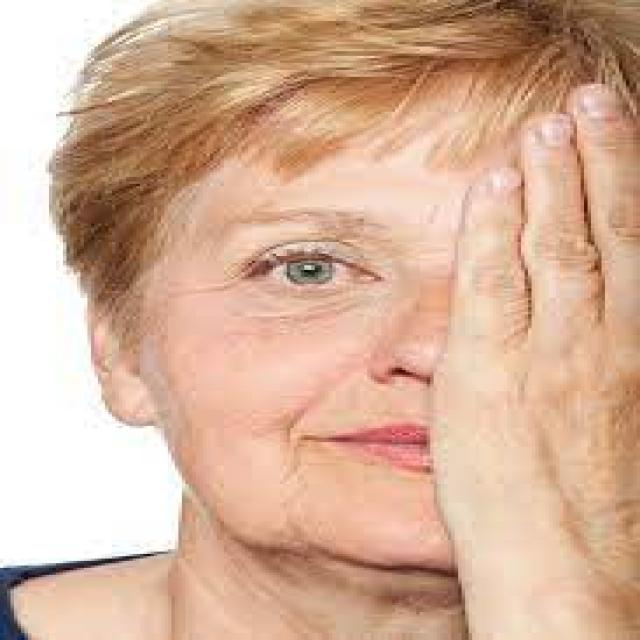Wrinkles: (252, 407, 311, 543), (232, 298, 378, 339), (166, 278, 246, 299)
